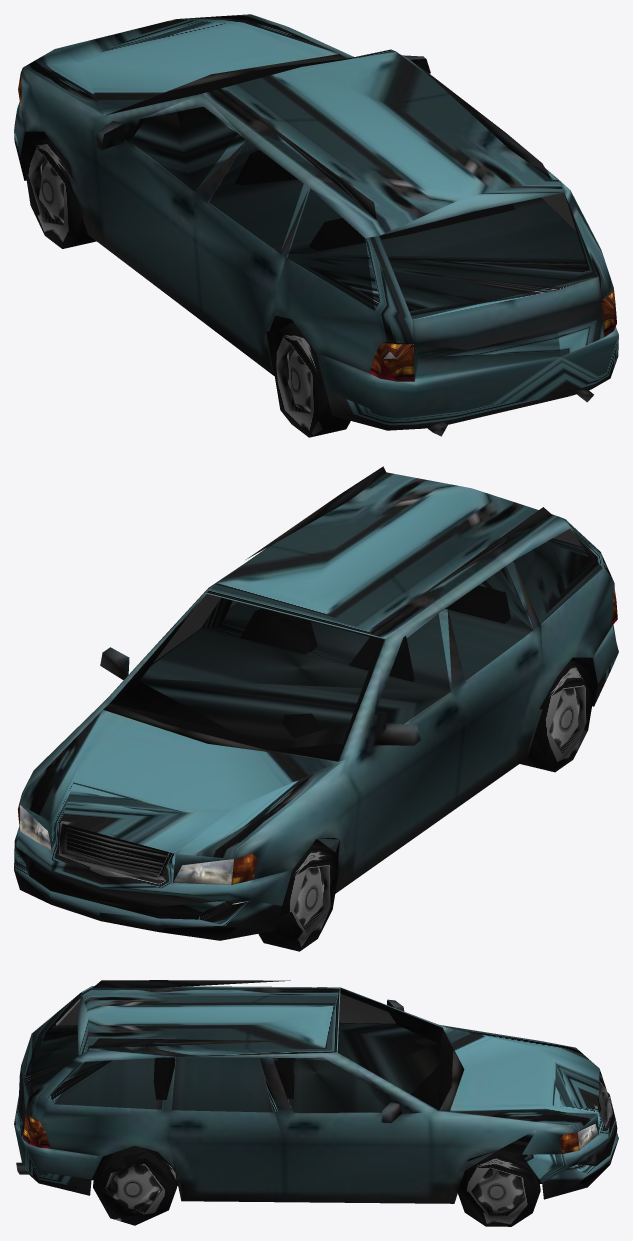
The model's file is c_wagon_lo.glb.
3 renders of one model, top to bottom at view 1: azimuth 30°, elevation 25°; view 2: azimuth 150°, elevation 25°; view 3: azimuth 270°, elevation 25°, orthographic. The views are drawn at different scales.
Visible parts, largest first — view 1: body|Body_8, body|glass, body|Wheel_7, body|Optics_8; view 2: body|Body_8, body|glass, body|Wheel_7, body|Optics_8; view 3: body|Body_8, body|glass, body|Wheel_7, body|Optics_8.
Boxes of the visible parts, x1=… form: body|Body_8: x1=14, y1=14, x2=618, y2=436; body|glass: x1=124, y1=55, x2=597, y2=319; body|Wheel_7: x1=25, y1=136, x2=350, y2=437; body|Optics_8: x1=18, y1=74, x2=616, y2=381; body|Body_8: x1=14, y1=466, x2=618, y2=940; body|glass: x1=110, y1=528, x2=602, y2=761; body|Wheel_7: x1=258, y1=660, x2=593, y2=951; body|Optics_8: x1=17, y1=589, x2=617, y2=904; body|Body_8: x1=14, y1=980, x2=618, y2=1203; body|glass: x1=30, y1=989, x2=442, y2=1112; body|Wheel_7: x1=93, y1=1145, x2=540, y2=1226; body|Optics_8: x1=23, y1=1114, x2=598, y2=1166.
Bounding box in the file's own units: 1.95 × 1.36 × 4.38.
Materials: 4 (3 with a texture image).
